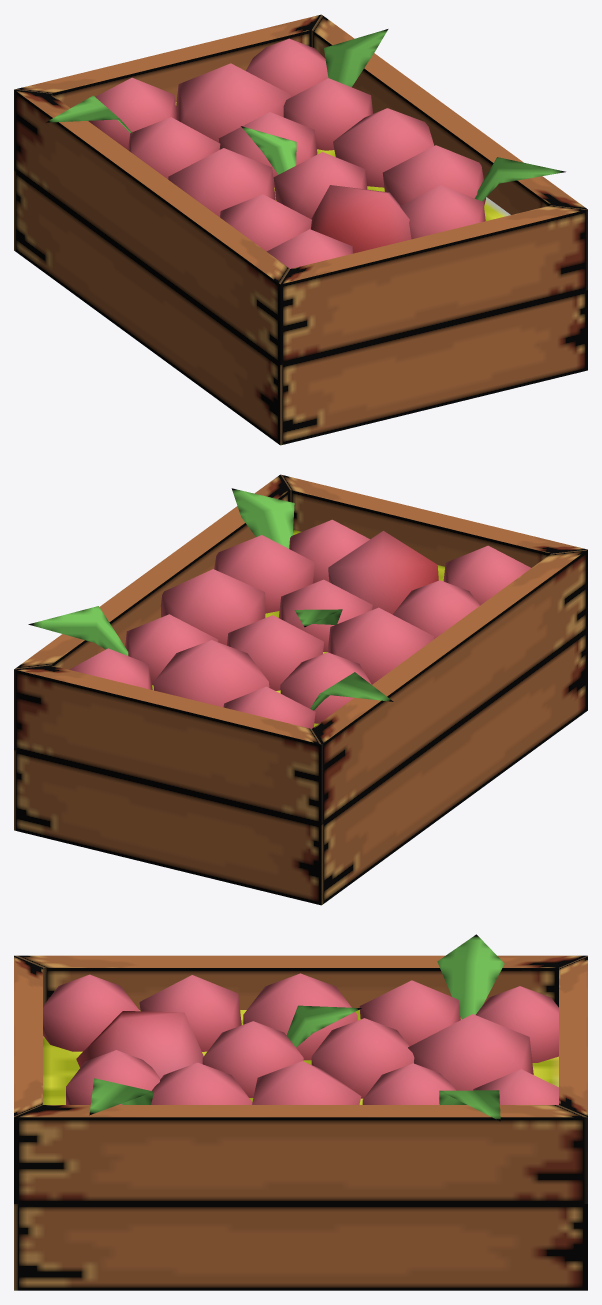
Rendered from deco_crate_fruitRed.FBX.
3 renders of one model, top to bottom at view 1: azimuth 30°, elevation 25°; view 2: azimuth 150°, elevation 25°; view 3: azimuth 270°, elevation 25°, orthographic. The views are drawn at different scales.
Parts seen in each view (by area): view 1: deco_crate_fruitRed; view 2: deco_crate_fruitRed; view 3: deco_crate_fruitRed.
Boxes of the visible parts, x1,y1,x2,y2 form: deco_crate_fruitRed: (14, 14, 587, 445); deco_crate_fruitRed: (14, 474, 587, 905); deco_crate_fruitRed: (14, 934, 587, 1290).
Bounding box in the file's own units: 1.15 × 0.5793 × 1.5.
Materials: 1 (1 with a texture image).
